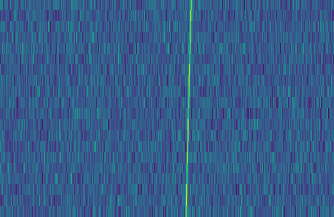signal: (181, 0, 195, 217)
